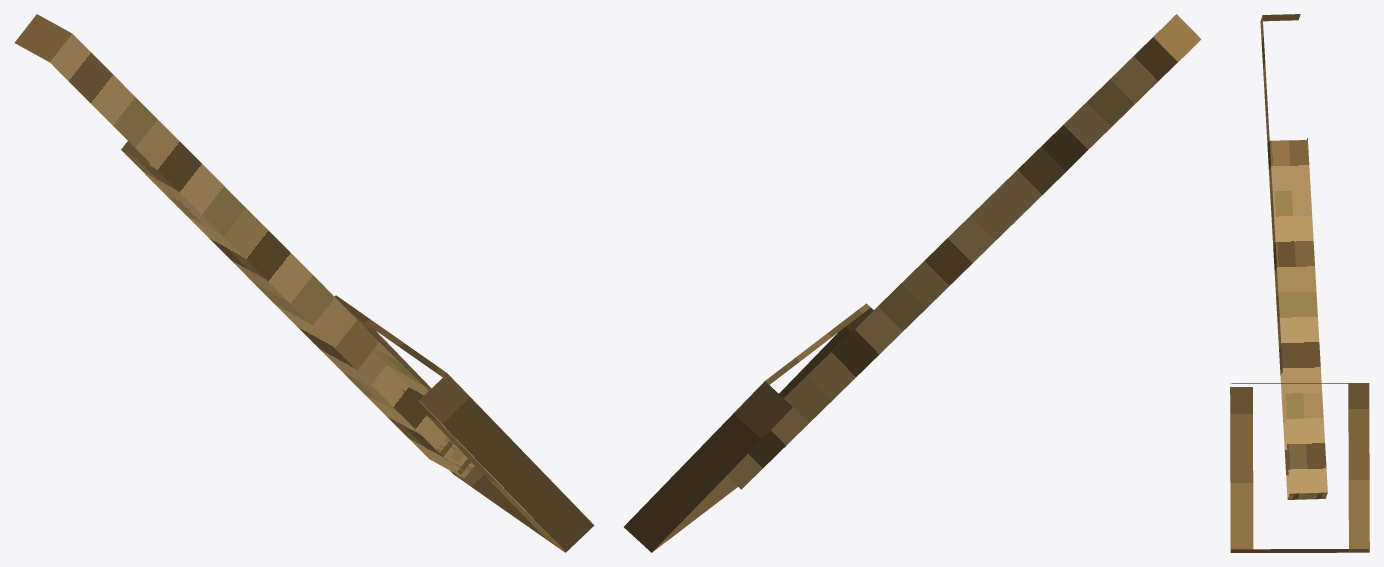
The model's file is remo.fbx.
3 views of the same model, side by side, from view 1: azimuth 30°, elevation 25°; view 2: azimuth 150°, elevation 25°; view 3: azimuth 270°, elevation 25° (orthographic). The views are drawn at different scales.
Visible parts, largest first — view 1: remo1; view 2: remo1; view 3: remo1.
Part boxes in pixels (x1,y1,x2,y2): remo1: (14,14,594,552); remo1: (624,14,1201,552); remo1: (1230,14,1369,552).
Bounding box in the file's own units: 156 × 174 × 56.23.
